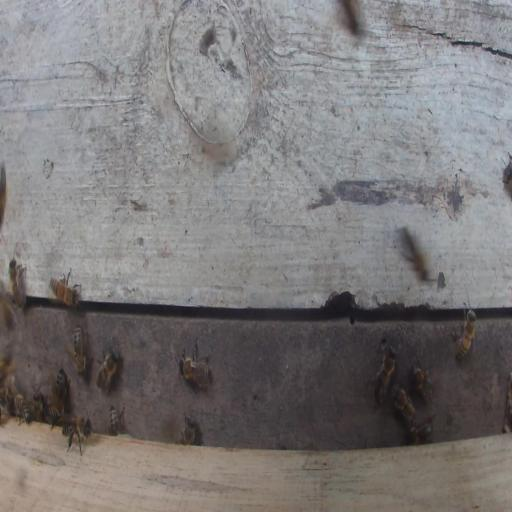nonpollenbee: (369, 345, 397, 405), (179, 337, 210, 391), (402, 229, 428, 281), (49, 267, 82, 307), (392, 383, 416, 431), (61, 415, 90, 454), (455, 308, 476, 361), (95, 347, 119, 393), (66, 325, 87, 375), (9, 258, 26, 309), (175, 412, 199, 446), (407, 365, 434, 393), (53, 369, 67, 417), (109, 405, 127, 437), (13, 393, 31, 425), (342, 1, 360, 32), (410, 421, 433, 444), (2, 299, 19, 329), (501, 151, 512, 185), (33, 392, 45, 421), (46, 406, 57, 421)
